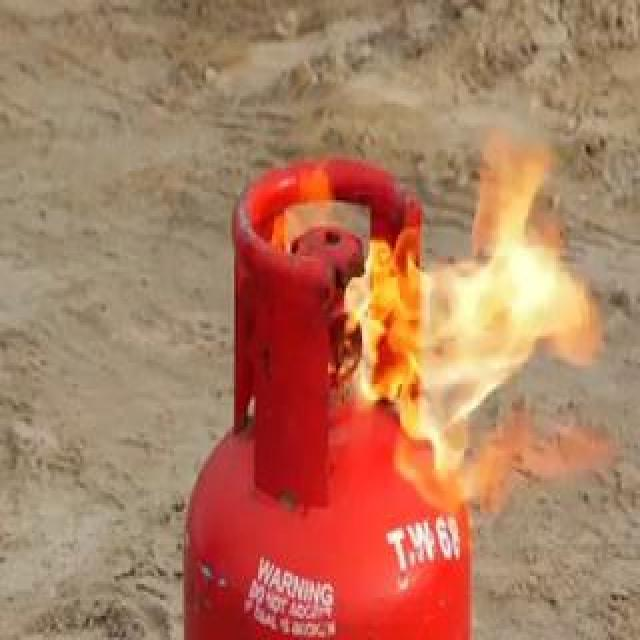Fire: (265, 92, 565, 487)
